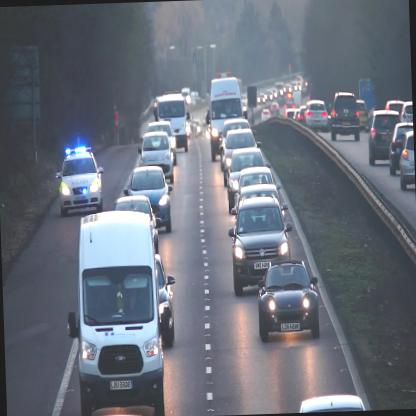car: (226, 195, 294, 295), (257, 261, 321, 340), (57, 144, 106, 216), (123, 166, 174, 235), (226, 146, 272, 210), (220, 128, 261, 182), (368, 110, 401, 166), (140, 131, 174, 185), (330, 92, 360, 141), (388, 120, 414, 174), (148, 122, 176, 162), (304, 99, 330, 132)
truck: (72, 209, 166, 415), (210, 76, 244, 163), (156, 93, 186, 154)
